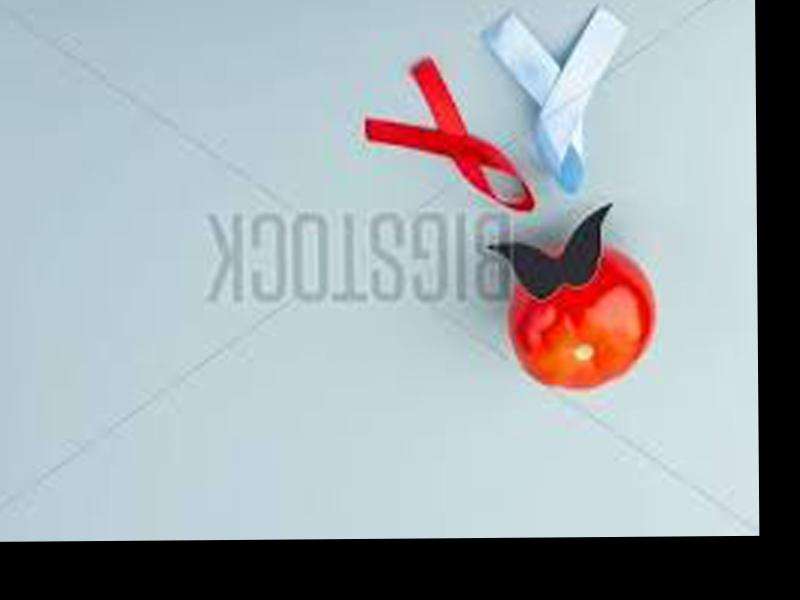Tomato: (506, 244, 655, 391)
